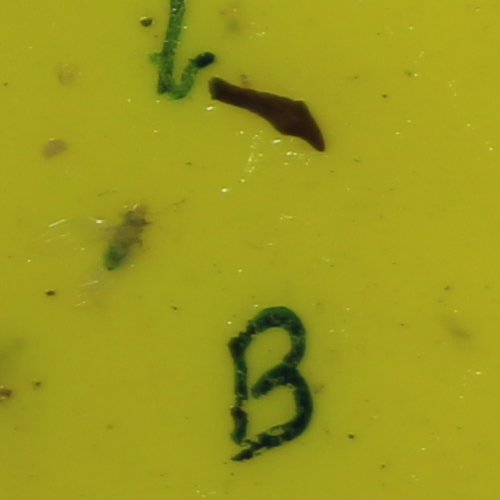Glycaspis: (100, 202, 153, 271)
